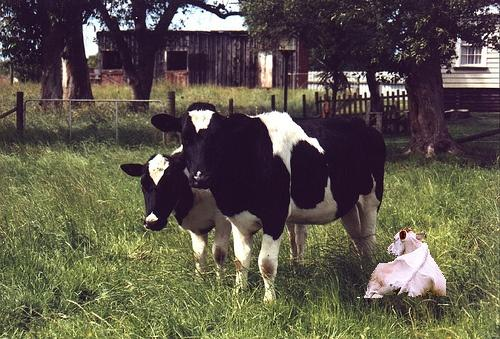tampered: (358, 228, 446, 298)
